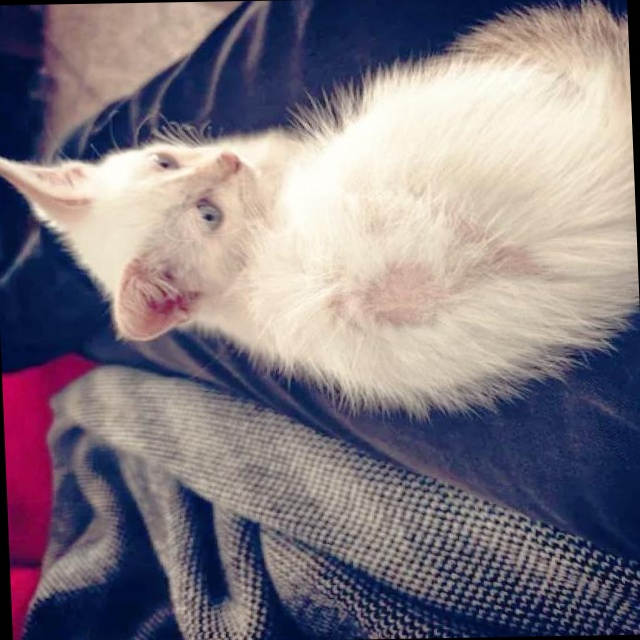hairloss: (352, 233, 537, 321)
